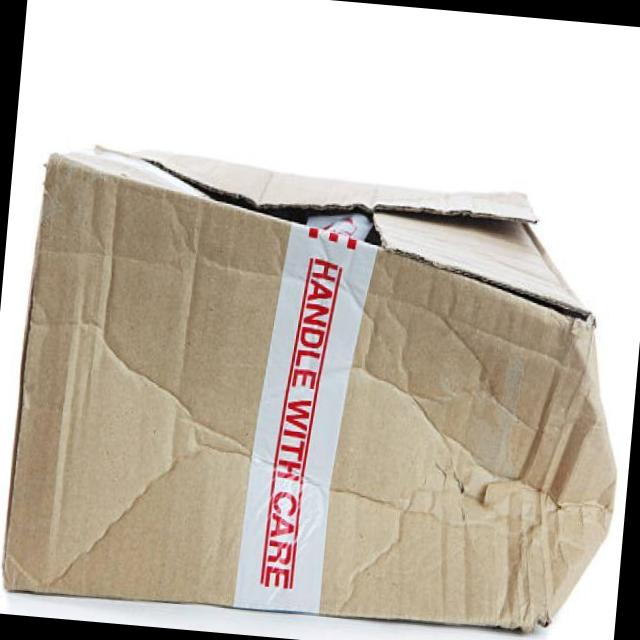crushed: (362, 336, 618, 628)
tear: (104, 149, 589, 334)
